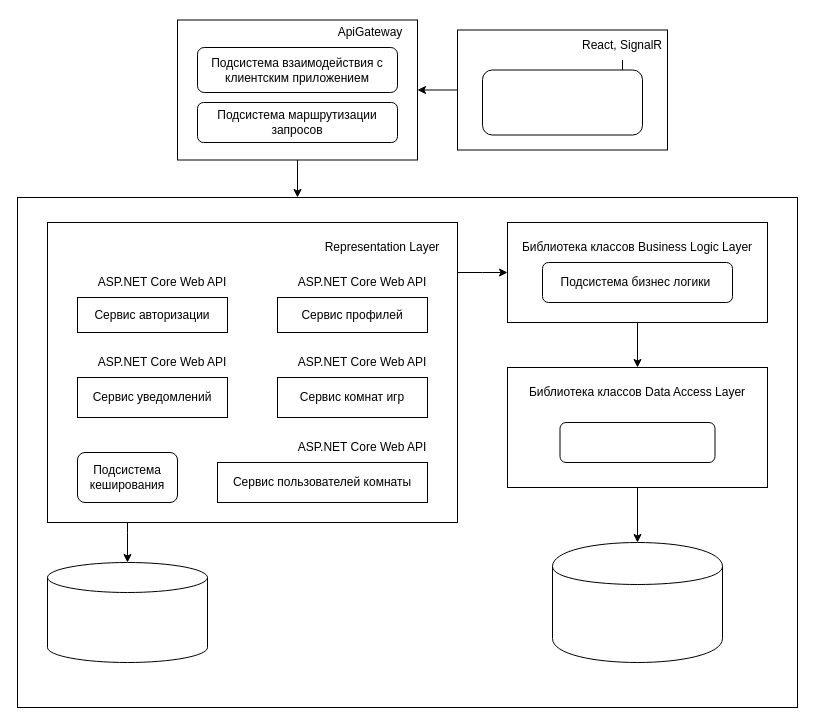
This 815x725 diagram has some shape labels left out. Here are the shapes that lost their labels. From the top down, the box of each, then its label:
(482, 69, 642, 135): Подсистема пользовательского интерфейса
(559, 422, 715, 462): Подсистема доступа к данным
(46, 562, 208, 662): Подсистема хранения кеша (База данных)
(552, 542, 722, 662): Подсистема хранения и обработки информации (База данных)
